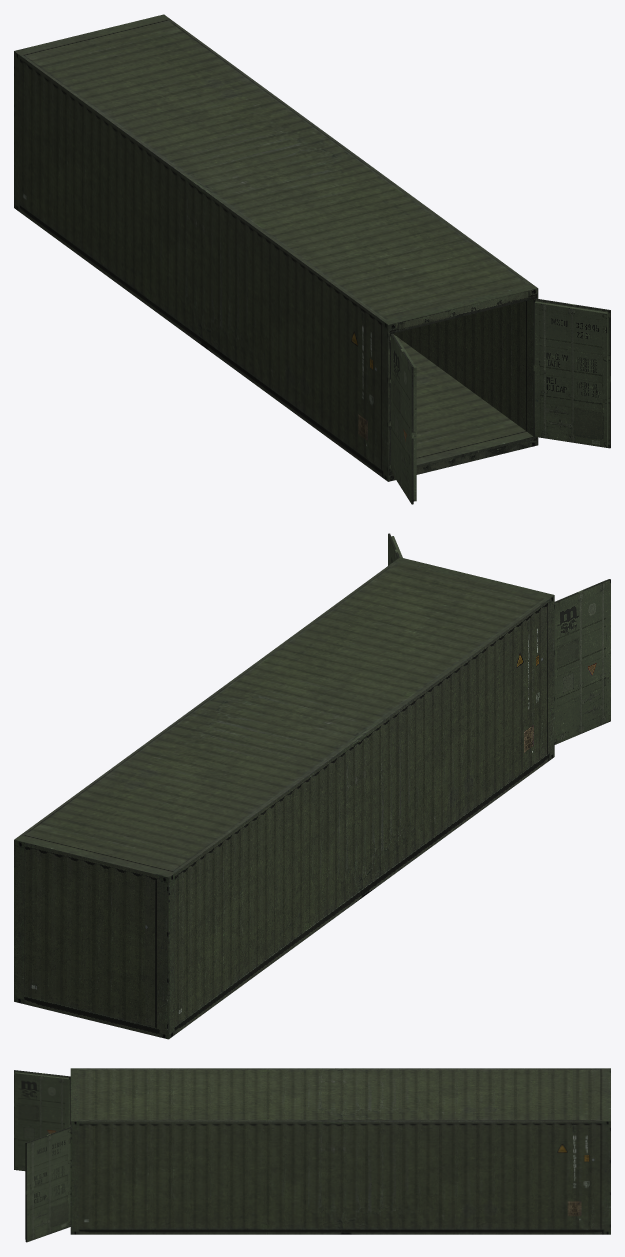
The model's file is shipping_container_mx_1_hollow_1_1.glb.
3 views of the same model, one above another, from view 1: azimuth 30°, elevation 25°; view 2: azimuth 150°, elevation 25°; view 3: azimuth 270°, elevation 25° (orthographic). The views are drawn at different scales.
Visible parts, largest first — view 1: shipping_container_mx_1_hollow_1_1; view 2: shipping_container_mx_1_hollow_1_1; view 3: shipping_container_mx_1_hollow_1_1.
Boxes of the visible parts, <box> form: shipping_container_mx_1_hollow_1_1: <box>14,14,610,504</box>; shipping_container_mx_1_hollow_1_1: <box>14,533,610,1039</box>; shipping_container_mx_1_hollow_1_1: <box>14,1068,610,1242</box>.
Bounding box in the file's own units: 3.46 × 2.5 × 11.94.
1 material, 1 textured.
